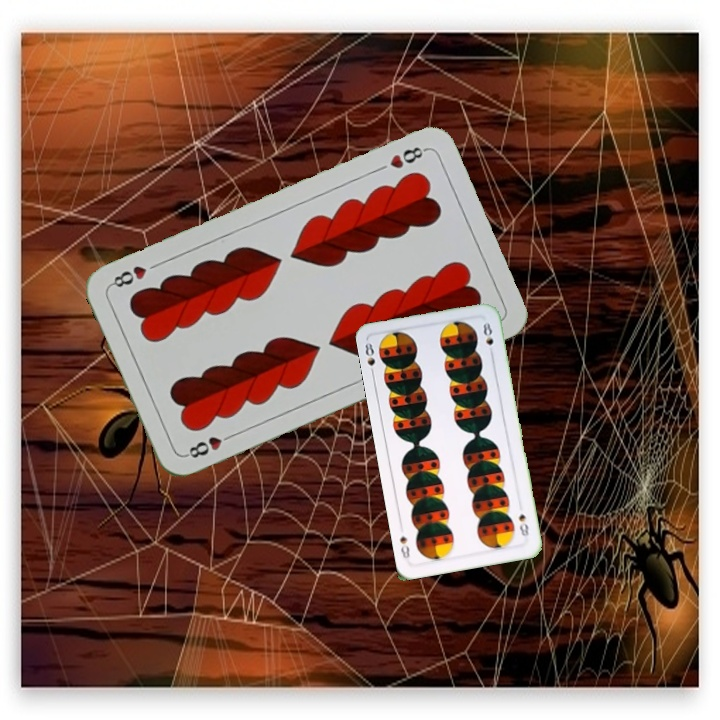H8: (181, 429, 237, 461), (385, 142, 430, 171)
S8: (361, 338, 377, 378), (514, 510, 531, 539)
